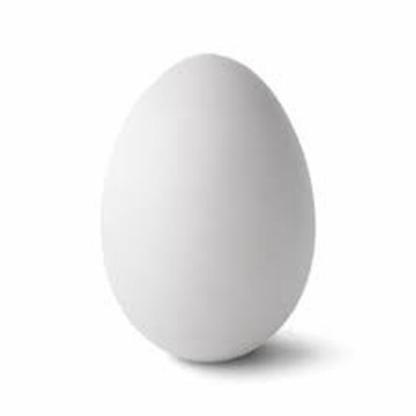egg: (97, 51, 327, 367)
